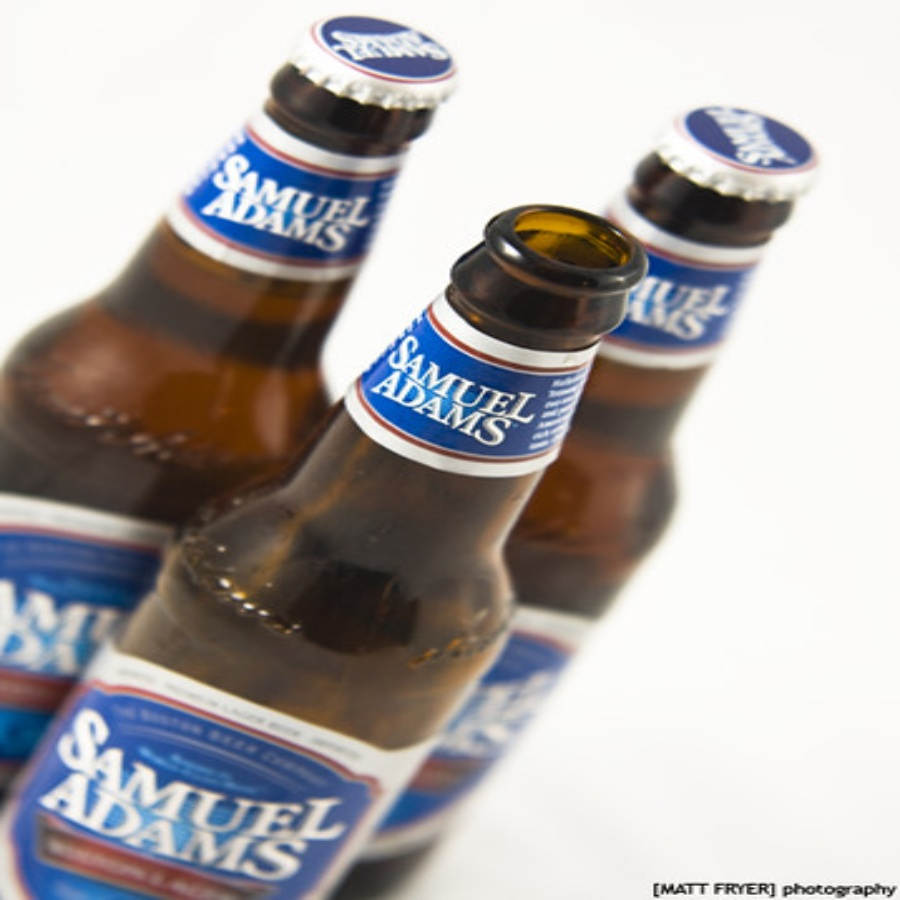beer: (1, 215, 661, 891), (1, 14, 456, 582)
